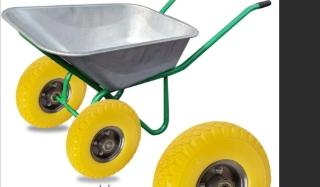BROUETTE: (0, 0, 280, 187)
